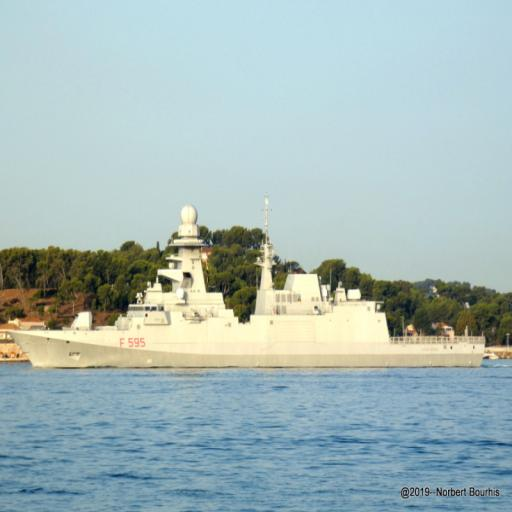Fragata: (4, 197, 490, 374)
